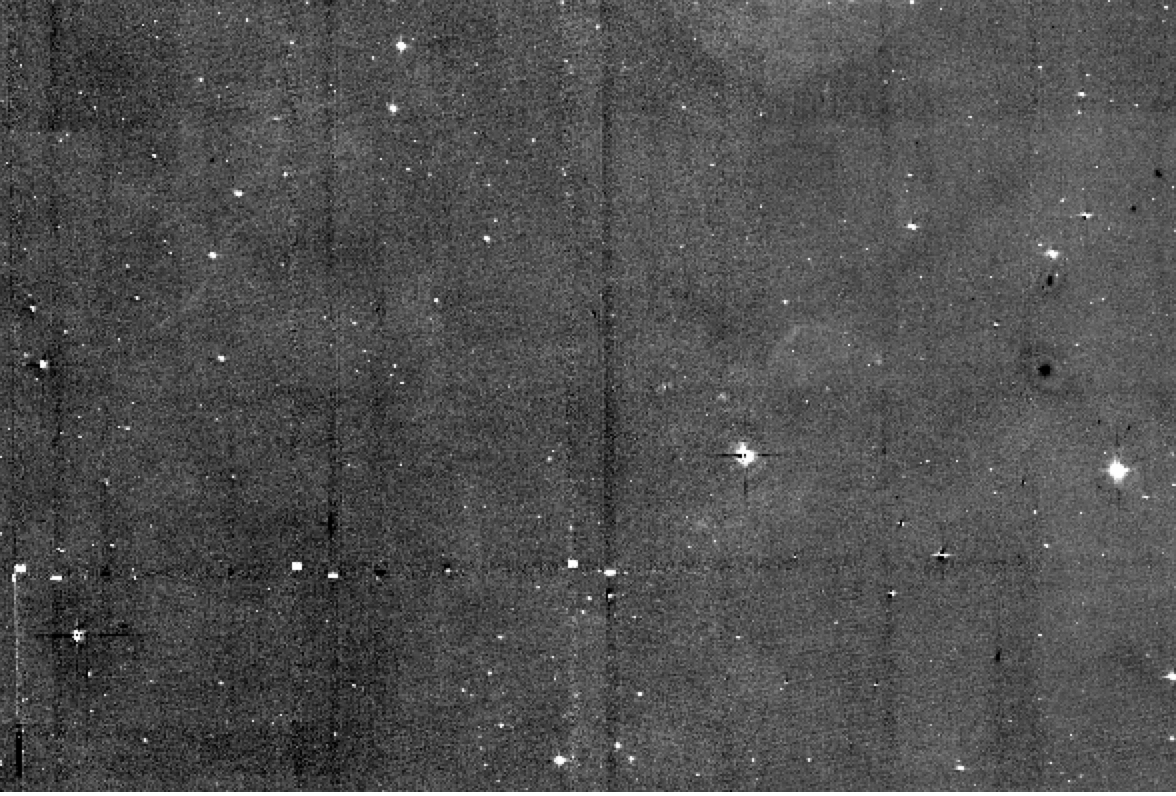Halpha: (89, 174, 300, 378), (696, 296, 898, 405)
